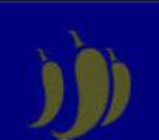ImgButton: (1, 1, 158, 139)
